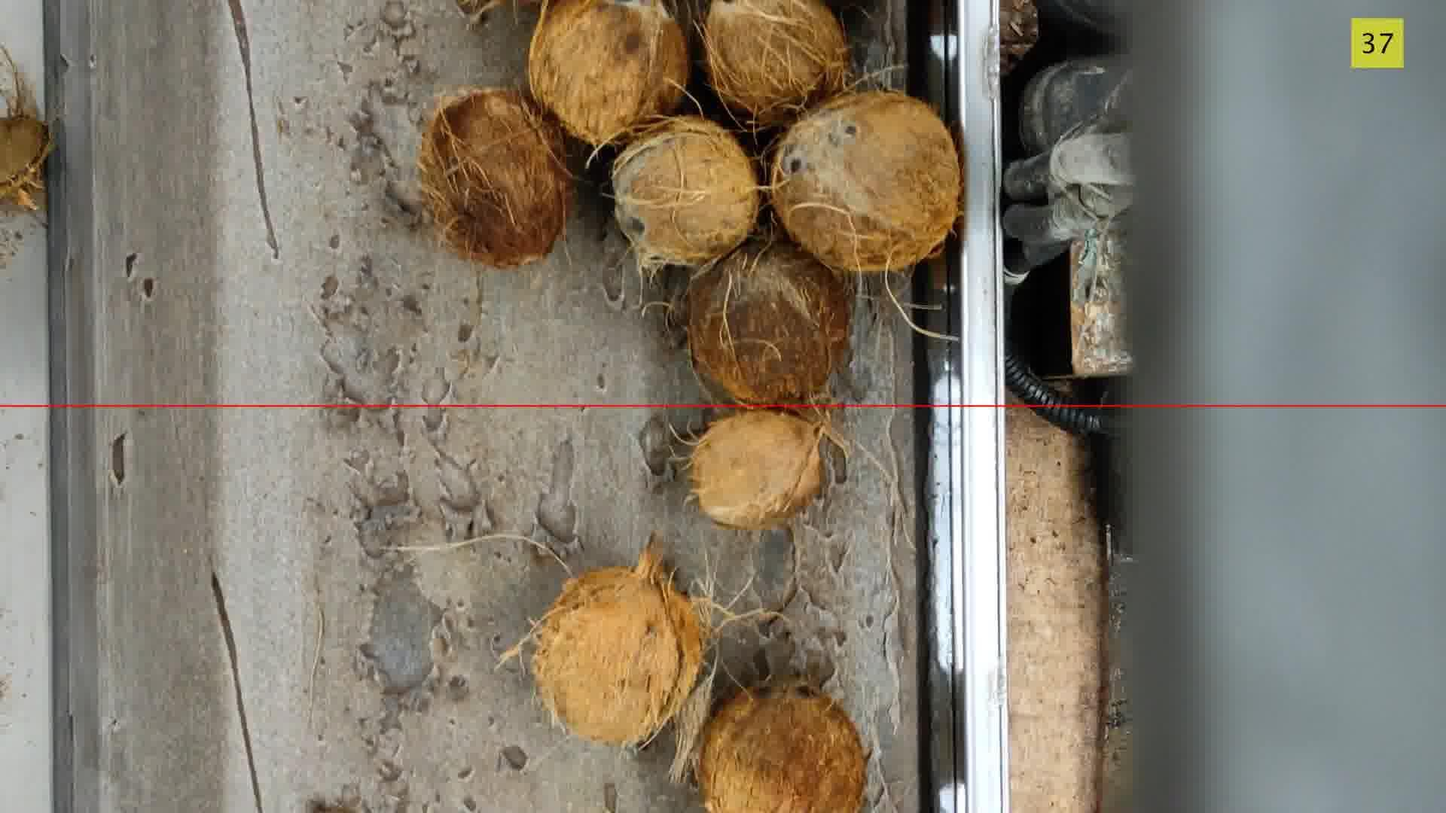Coconut: (531, 545, 706, 745), (770, 91, 962, 271), (418, 88, 573, 267), (687, 239, 853, 405), (528, 0, 689, 145), (612, 116, 760, 266), (697, 685, 866, 812), (704, 0, 850, 126), (688, 410, 823, 529), (0, 49, 51, 209)
